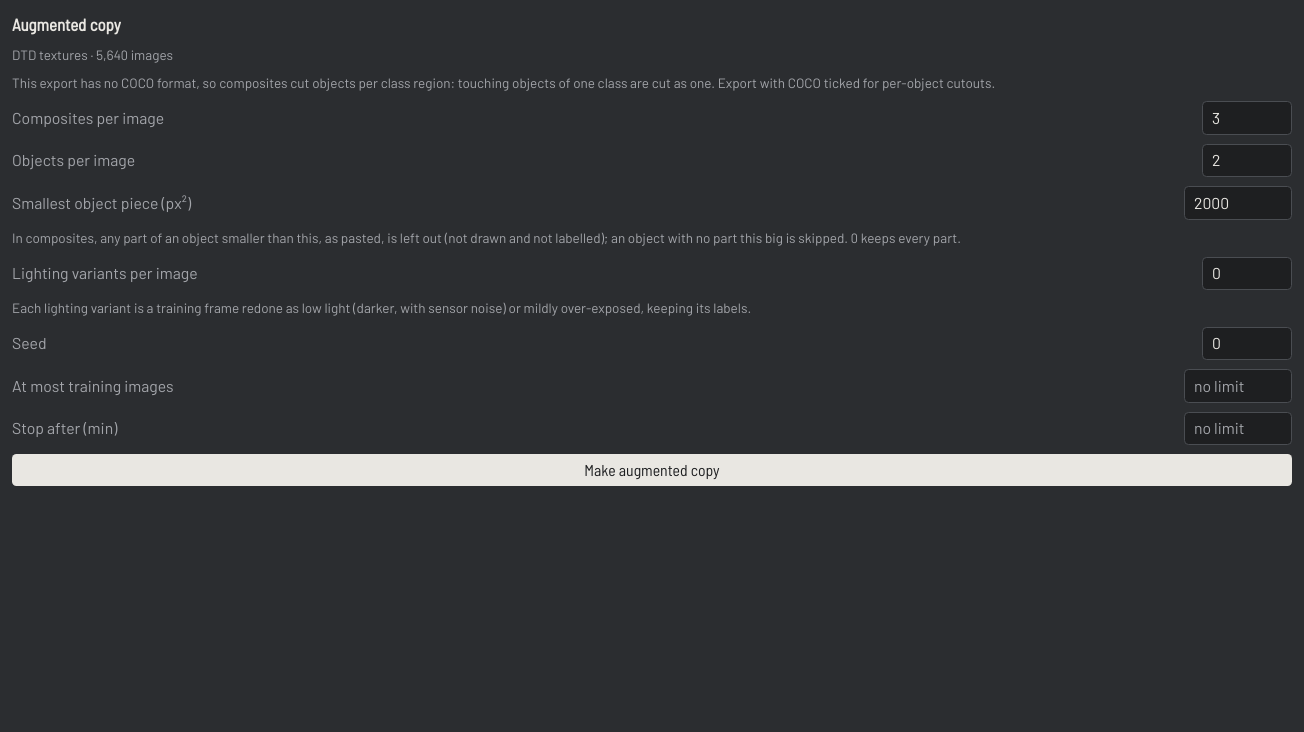
Scenario: AugmentPanel › disables Make augmented copy when it would add nothing
Expected: the text "DTD textures · 5,640 images" is shown, [12, 46, 173, 63]
Replace the text in the number field labelled "Composites per image" with "0" at (1247, 118), box [1202, 101, 1292, 135]
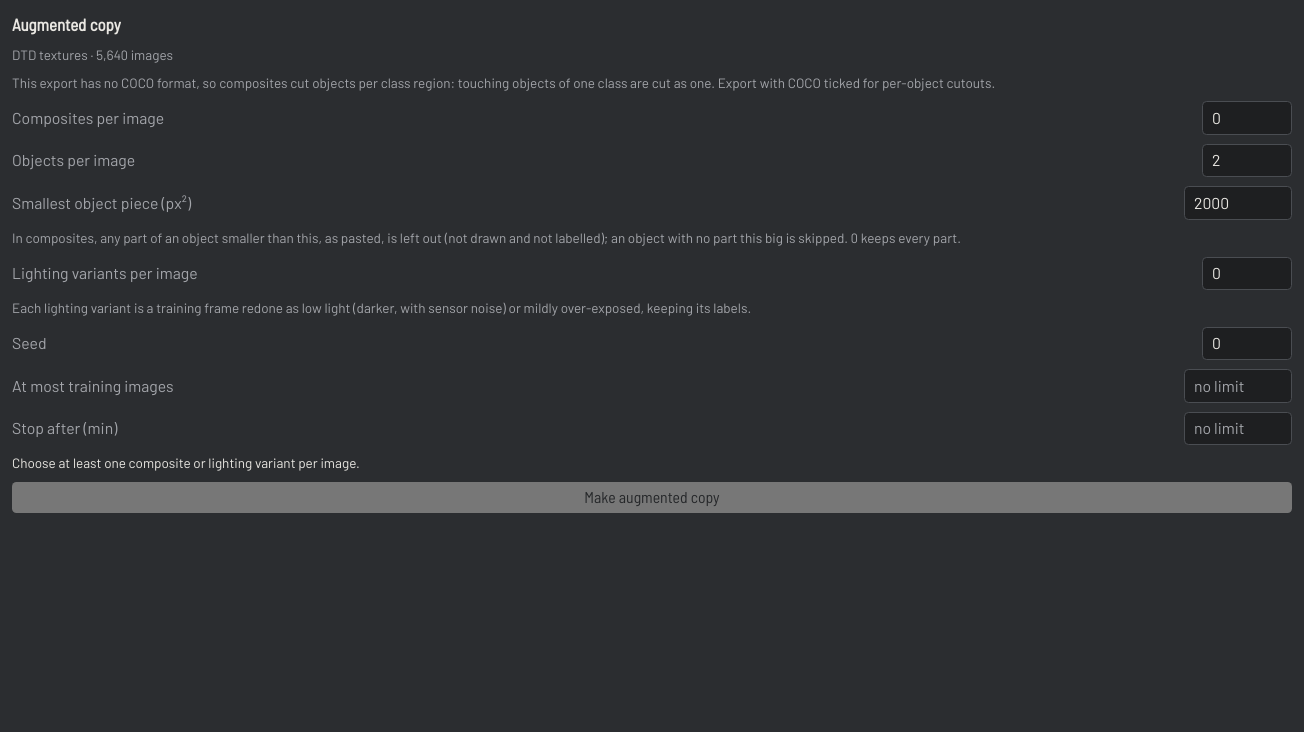
Now the button "Make augmented copy" is disabled, box [12, 482, 1292, 513]
Now the text "Choose at least one composite or lighting variant per image." is shown, box [12, 454, 360, 471]
